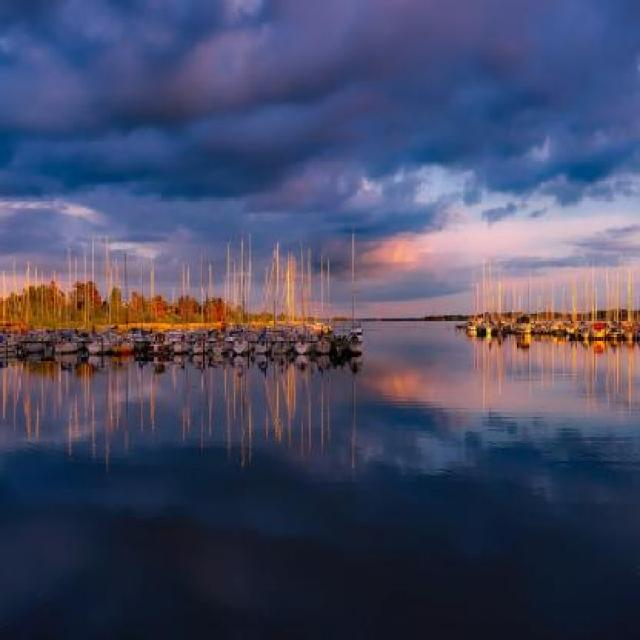ship: (86, 231, 119, 355), (88, 232, 117, 354), (230, 231, 253, 355), (232, 231, 253, 352), (55, 249, 79, 354), (292, 238, 312, 354), (191, 250, 212, 356), (112, 252, 133, 353), (272, 239, 290, 353), (347, 232, 364, 352), (312, 251, 331, 354), (253, 262, 272, 353), (173, 260, 190, 355), (147, 330, 171, 353), (514, 314, 532, 331)
